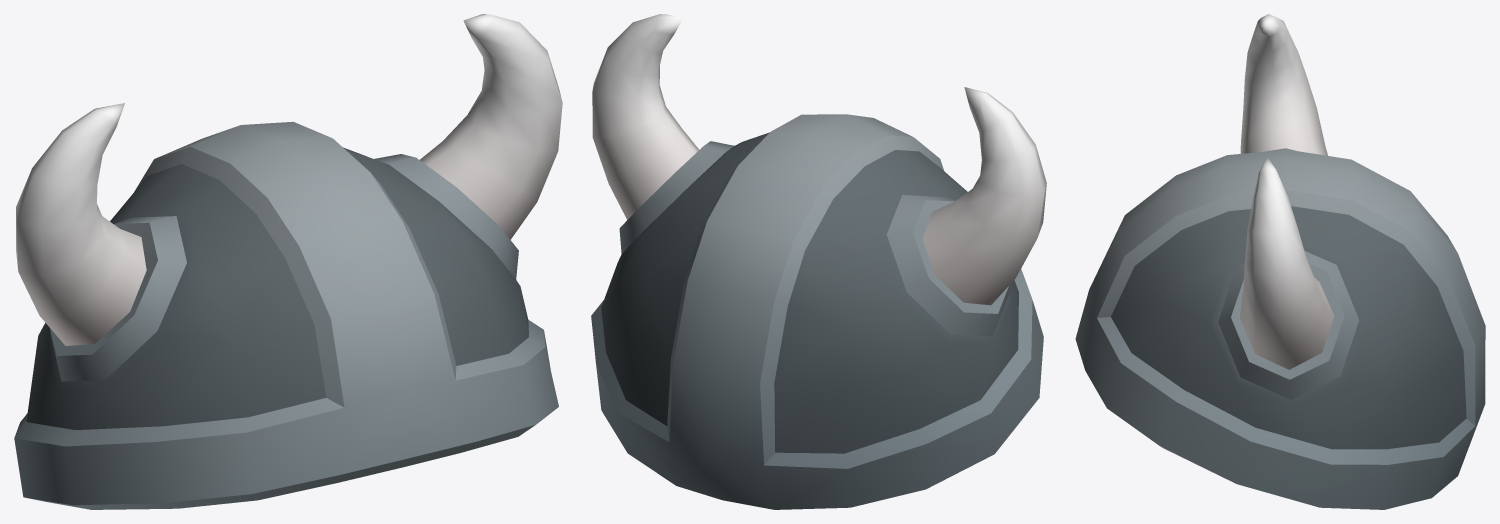
Rendered from Hat_17.glb.
3 renders of one model, left to right at view 1: azimuth 30°, elevation 25°; view 2: azimuth 150°, elevation 25°; view 3: azimuth 270°, elevation 25°, orthographic. The views are drawn at different scales.
Visible parts, largest first — view 1: Hat_17; view 2: Hat_17; view 3: Hat_17.
Part boxes in pixels (bbox=[...]): Hat_17: bbox=[14, 14, 562, 509]; Hat_17: bbox=[591, 14, 1046, 509]; Hat_17: bbox=[1075, 14, 1485, 509].
Bounding box in the file's own units: 0.7367 × 0.591 × 0.5987.
1 material, 1 textured.
